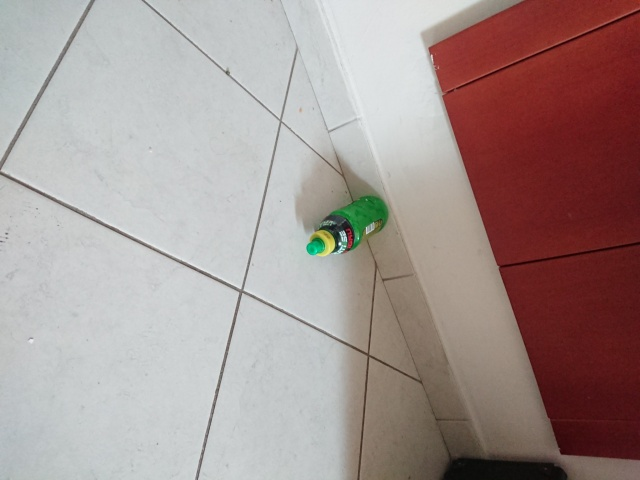Vindi Iso Sport Lemon-Grapefruit 500mL: (304, 193, 391, 260)
